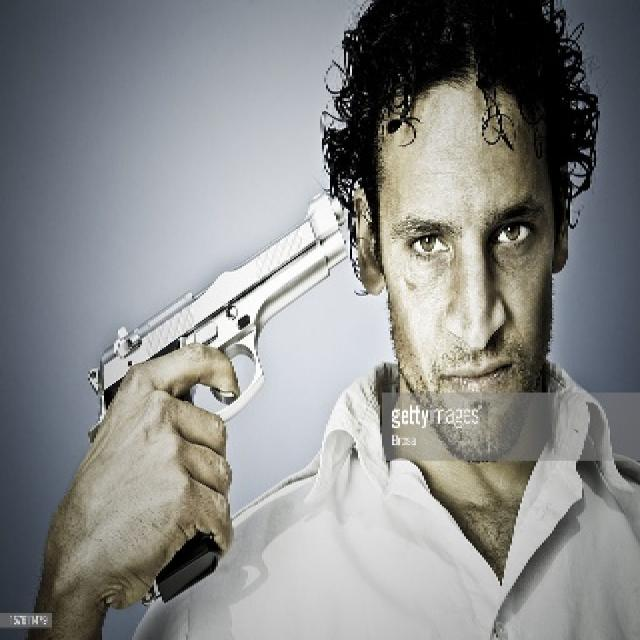handgun: (81, 173, 341, 446)
